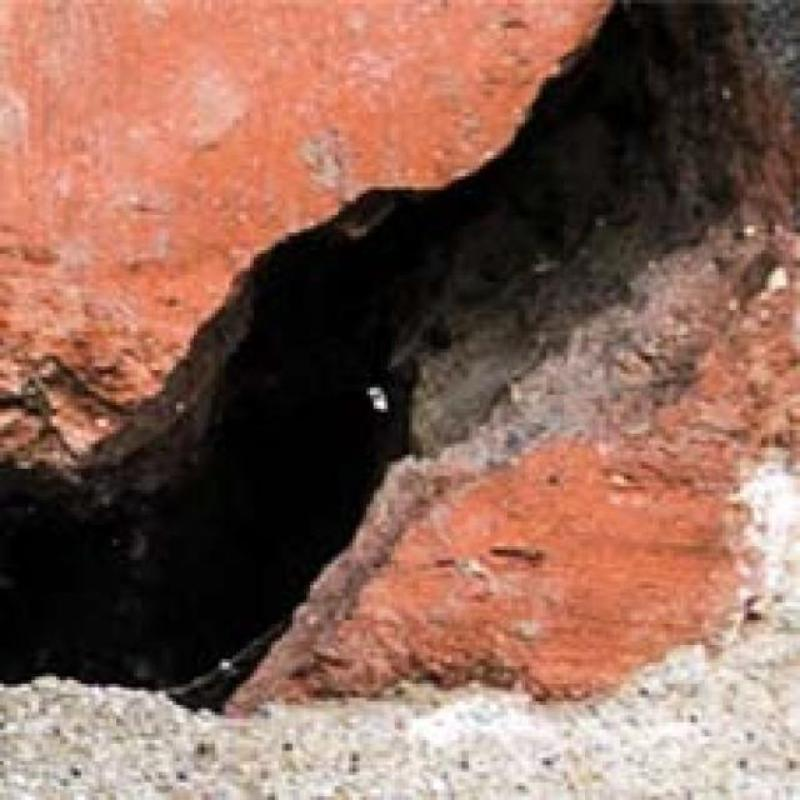crack: (0, 0, 794, 706)
